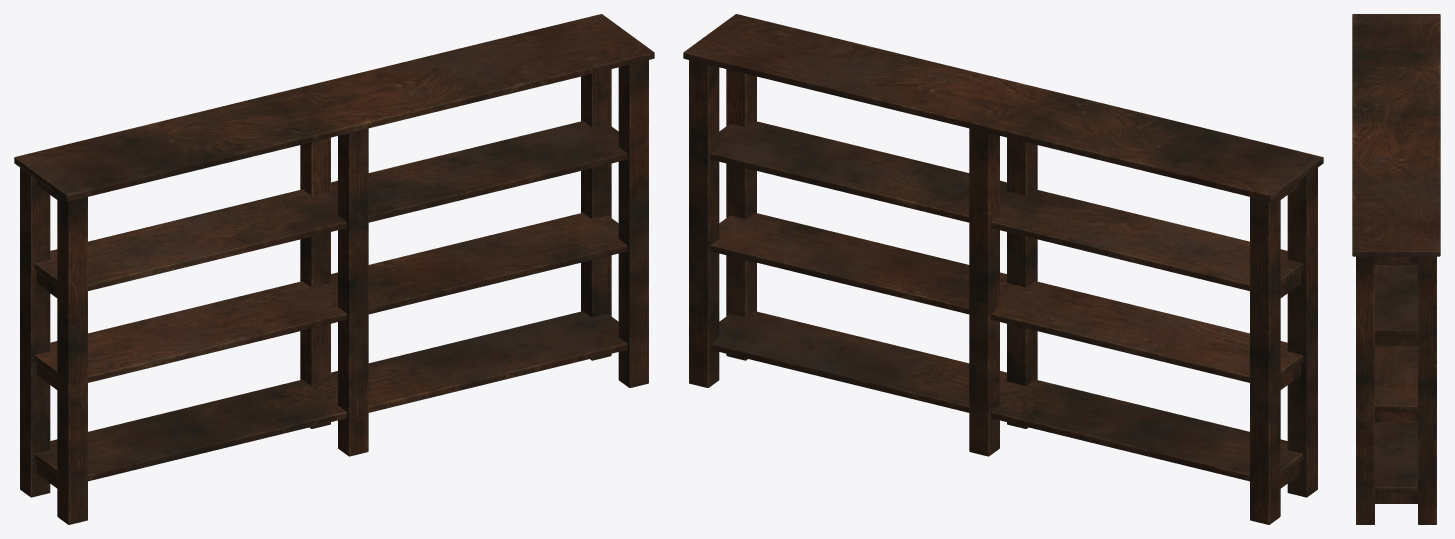
Rendered from shrine_shelf_02.fbx.
3 views of the same model, side by side, from view 1: azimuth 30°, elevation 25°; view 2: azimuth 150°, elevation 25°; view 3: azimuth 270°, elevation 25° (orthographic). The views are drawn at different scales.
Visible parts, largest first — view 1: shrine_shelf_02; view 2: shrine_shelf_02; view 3: shrine_shelf_02.
Part boxes in pixels (<box>): shrine_shelf_02: <box>14,14,654,524</box>; shrine_shelf_02: <box>683,14,1323,524</box>; shrine_shelf_02: <box>1352,14,1440,524</box>.
Bounding box in the file's own units: 487 × 263 × 76.26.
Materials: 1 (1 with a texture image).
